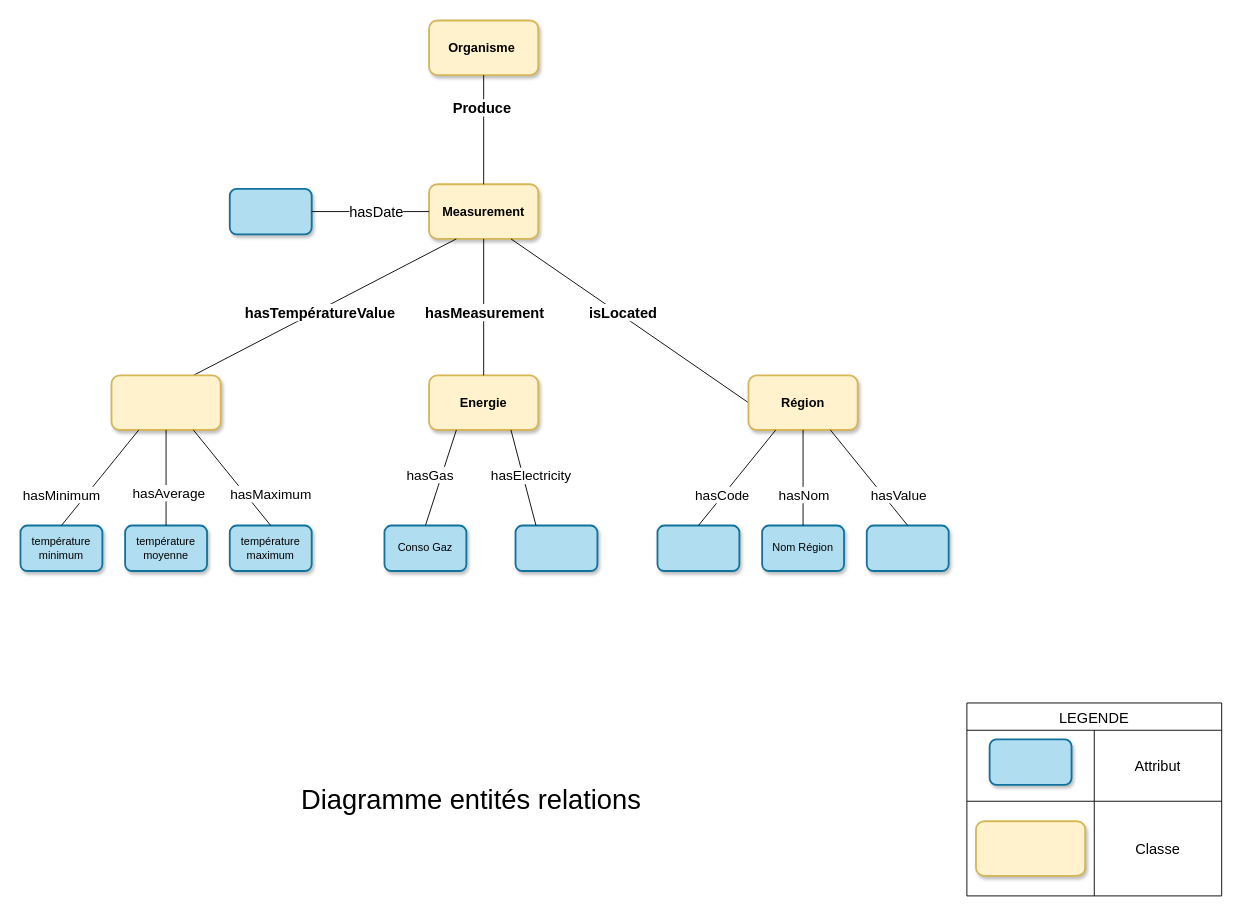
Image size: 1238x912. Some labels were removed from this diagram. Here are the shapes that lost their labels. From the top down, the centre of each, then its label:
At pixel 271 212: "Date".
At pixel 166 403: "Température".
At pixel 557 549: "Conso Electricité".
At pixel 698 549: "Code_Insee Région".
At pixel 908 549: "Dépense par personne".
